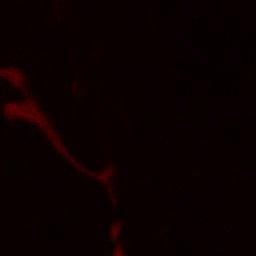debris: (1, 65, 30, 90), (107, 216, 122, 256), (23, 92, 44, 115), (99, 161, 117, 184), (3, 102, 25, 119), (106, 183, 116, 212), (29, 114, 51, 127), (81, 167, 101, 179), (65, 155, 82, 167), (45, 131, 60, 143), (55, 143, 69, 152)
